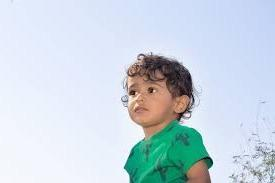Human: (111, 45, 220, 183)
